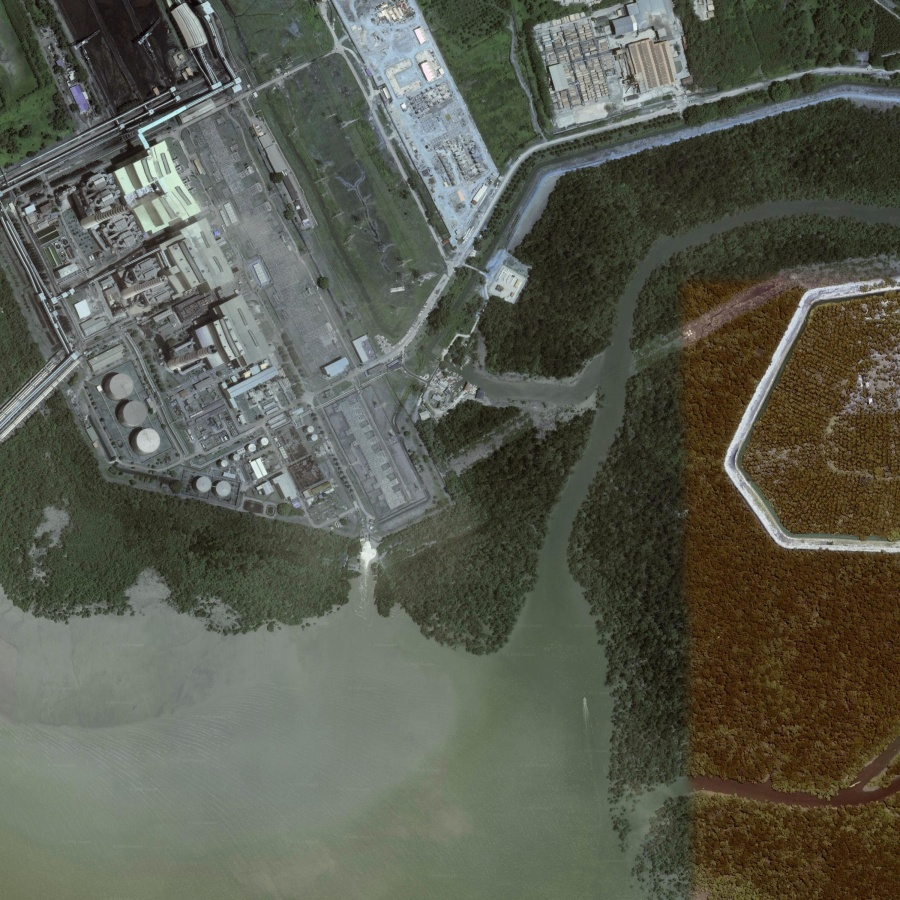PowerPlant: (5, 155, 370, 517)
